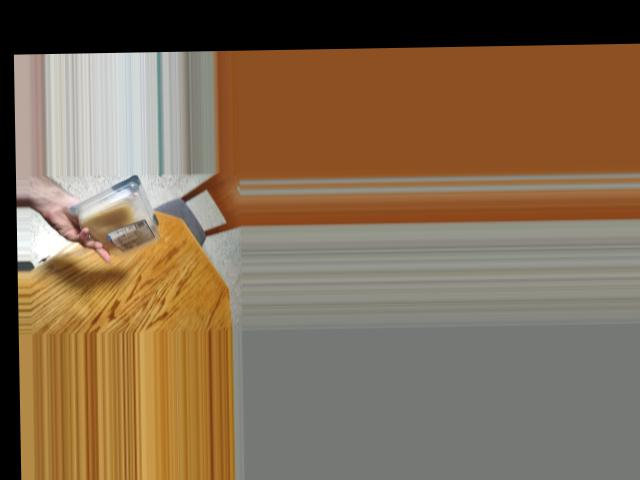cheese: (75, 187, 160, 247)
